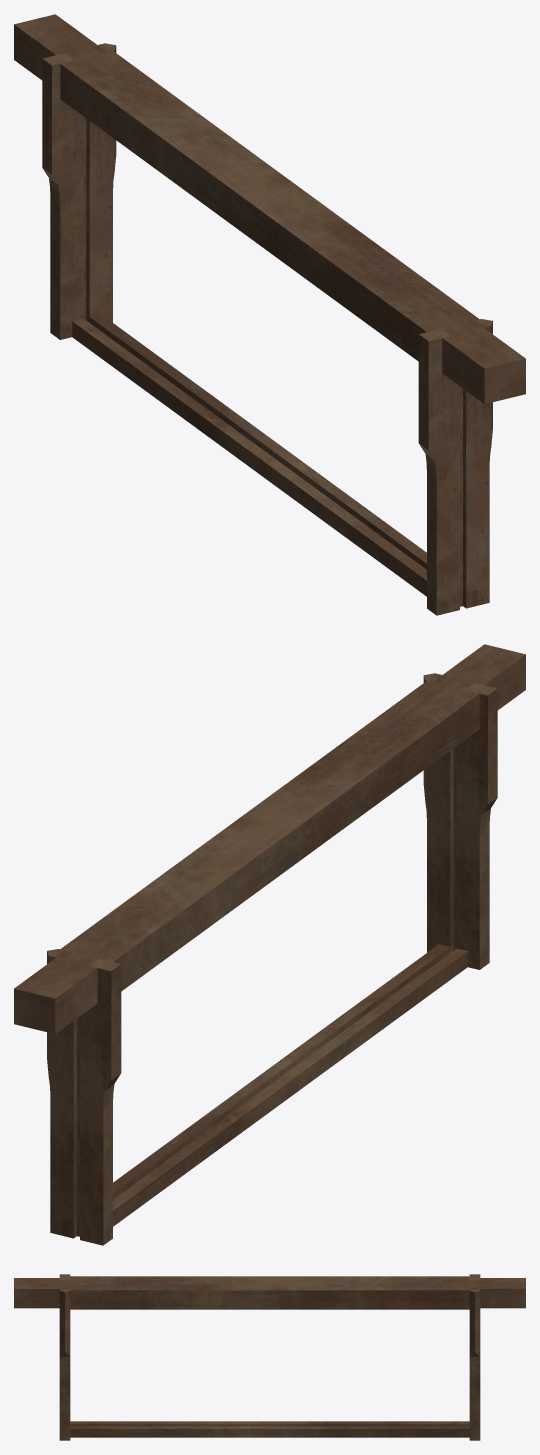
File: Frame_Short.fbx
3 renders of one model, top to bottom at view 1: azimuth 30°, elevation 25°; view 2: azimuth 150°, elevation 25°; view 3: azimuth 270°, elevation 25°, orthographic. The views are drawn at different scales.
Parts seen in each view (by area): view 1: Frame_Top, Frame_Bottom, FrameSide, FrameSide.001; view 2: Frame_Top, Frame_Bottom, FrameSide.001, FrameSide; view 3: Frame_Top, Frame_Bottom, FrameSide, FrameSide.001.
Boxes of the visible parts, x1,y1,x2,y2 form: Frame_Top: (14, 14, 525, 404); Frame_Bottom: (72, 314, 477, 612); FrameSide: (418, 319, 492, 615); FrameSide.001: (42, 43, 116, 339); Frame_Top: (14, 644, 525, 1034); Frame_Bottom: (62, 944, 467, 1242); FrameSide.001: (47, 949, 121, 1245); FrameSide: (423, 673, 497, 969); Frame_Top: (14, 1276, 525, 1309); Frame_Bottom: (70, 1421, 469, 1437); FrameSide: (59, 1274, 70, 1440); FrameSide.001: (469, 1274, 480, 1440).
Size of the model in its own units: 3.67 by 14 by 43.2.
